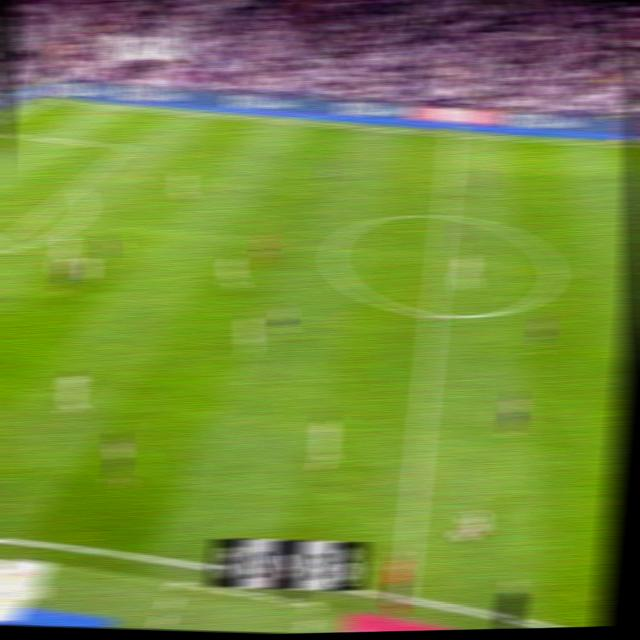bigarea_top_inner: (120, 140, 136, 154)
corner: (42, 96, 59, 106)
halfcircle_bottom: (422, 298, 447, 331)
halfcircle_top: (436, 202, 456, 228)
midline_bottom_intersection: (392, 579, 418, 610)
midline_top_intersection: (444, 126, 464, 144)
top_arc_area_intersection: (67, 179, 85, 196)
